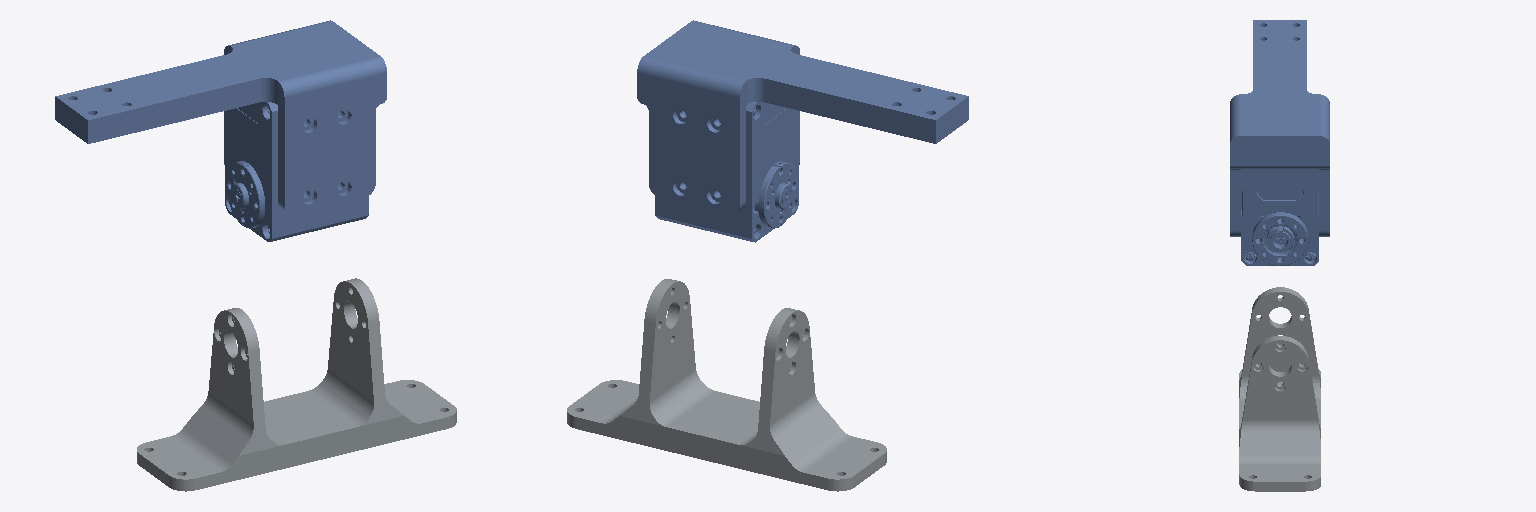
The robot description file, URDF, robot "sysID_XC430":
<?xml version="1.0" ?>
<robot name="sysID_XC430">
  <mujoco>
    <compiler strippath="false" balanceinertia="true" discardvisual="false"/>
  </mujoco>
  <link name="world">
    <inertial>
      <origin xyz="0.0 0.0 0.0" rpy="0.0 0.0 0.0"/>
      <mass value="0.0"/>
      <inertia ixx="0.0" iyy="0.0" izz="0.0" ixy="0" ixz="0" iyz="0"/>
    </inertial>
    <visual name="world_visual">
      <origin xyz="-0.00203224 0.055143 0.107941" rpy="0.0 0.0 0.0"/>
      <geometry>
        <mesh filename="assets/merged/arm_430_visual.stl" scale="1.0 1.0 1.0"/>
      </geometry>
      <material name="arm_430_visual_material"/>
    </visual>
    <collision name="world_collision">
      <origin xyz="-0.00203224 0.055143 0.107941" rpy="0.0 0.0 0.0"/>
      <geometry>
        <mesh filename="assets/merged/arm_430_collision.stl" scale="1.0 1.0 1.0"/>
      </geometry>
    </collision>
  </link>
  <link name="mount_xc430">
    <inertial>
      <origin xyz="0.0159874 2.6384e-05 0.0159224" rpy="-0.732257 -0.00144754 1.5738"/>
      <mass value="0.08645"/>
      <inertia ixx="4.3242310635605146e-05" iyy="3.422562065185067e-05" izz="2.267176871254411e-05" ixy="0" ixz="0" iyz="0"/>
    </inertial>
    <visual name="mount_xc430_visual">
      <origin xyz="0.0159874 2.6384e-05 0.0159224" rpy="-3.14159 -1.5708 0.0"/>
      <geometry>
        <mesh filename="assets/merged/mount_xc430_visual.stl" scale="1.0 1.0 1.0"/>
      </geometry>
      <material name="mount_xc430_visual_material"/>
    </visual>
    <collision name="mount_xc430_collision">
      <origin xyz="0.0159874 2.6384e-05 0.0159224" rpy="-3.14159 -1.5708 0.0"/>
      <geometry>
        <mesh filename="assets/merged/mount_xc430_collision.stl" scale="1.0 1.0 1.0"/>
      </geometry>
    </collision>
  </link>
  <link name="joint_0_body">
    <inertial>
      <origin xyz="0.0 0.0 0.0" rpy="0.0 0.0 0.0"/>
      <mass value="0.001"/>
      <inertia ixx="1e-09" iyy="1e-09" izz="1e-09" ixy="0" ixz="0" iyz="0"/>
    </inertial>
  </link>
  <joint type="revolute" name="joint_0">
    <parent link="world"/>
    <child link="joint_0_body"/>
    <origin xyz="-0.0210322 0.0551293 0.185732" rpy="3.14159 -1.5708 0.0"/>
    <axis xyz="0.0 0.0 1.0"/>
    <limit lower="-1.5707963267948966" upper="1.5707963267948966" effort="100" velocity="100"/>
  </joint>
  <joint type="fixed" name="joint_0_offset">
    <parent link="joint_0_body"/>
    <child link="mount_xc430"/>
    <origin xyz="0.0 0.0 0.0" rpy="0.0 0.0 0.0"/>
  </joint>
  <material name="arm_430_visual_material">
    <color rgba="0.630593 0.65299 0.674189 1"/>
  </material>
  <material name="arm_430_collision_material">
    <color rgba="0.630593 0.65299 0.674189 1"/>
  </material>
  <material name="mount_xc430_visual_material">
    <color rgba="0.447865 0.537334 0.69801 1"/>
  </material>
  <material name="mount_xc430_collision_material">
    <color rgba="0.447865 0.537334 0.69801 1"/>
  </material>
</robot>

--- What the picture shows (computed from the rendered views, not written in the file) ---
Views: 3 orthographic renders of the robot side by side, from view 1: azimuth 30°, elevation 25°; view 2: azimuth 150°, elevation 25°; view 3: azimuth 270°, elevation 25°.
Model sysID_XC430 with 3 links and 2 joints (1 revolute, 1 fixed), rooted at world, posed every joint at zero.
Links seen in each view (by area): view 1: mount_xc430, world; view 2: mount_xc430, world; view 3: mount_xc430, world.
Link boxes in pixels (x1=…): mount_xc430: x1=55, y1=20, x2=386, y2=241; world: x1=137, y1=278, x2=456, y2=491; mount_xc430: x1=637, y1=20, x2=968, y2=242; world: x1=567, y1=279, x2=886, y2=491; mount_xc430: x1=1230, y1=20, x2=1329, y2=265; world: x1=1239, y1=287, x2=1320, y2=491.
Size in the robot's own frame: 0.129 by 0.0368 by 0.1301 metres.
2 mesh visuals loaded from 2 distinct referenced files (2 binary STL).
